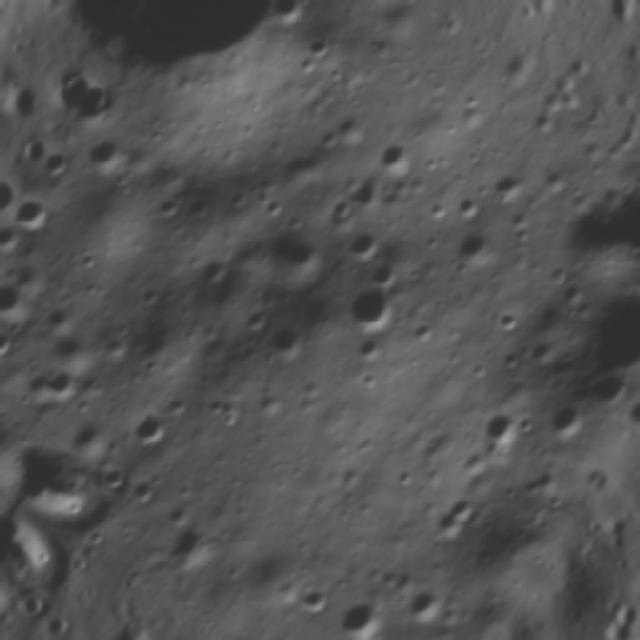crater: (112, 0, 306, 111), (551, 130, 640, 327), (0, 430, 105, 532), (581, 270, 640, 379), (340, 268, 409, 338), (5, 178, 64, 240), (576, 357, 635, 415), (333, 589, 398, 640), (162, 520, 215, 578), (264, 315, 319, 370), (428, 488, 482, 544), (86, 124, 136, 176), (74, 76, 123, 129), (452, 223, 502, 274), (342, 219, 392, 270), (484, 162, 536, 210), (373, 136, 422, 182), (124, 408, 173, 454), (546, 395, 592, 443), (475, 400, 520, 449), (350, 326, 395, 371), (406, 580, 448, 623), (38, 144, 79, 188), (38, 361, 82, 402), (486, 298, 528, 340), (450, 189, 492, 228), (94, 456, 134, 496), (127, 471, 167, 511), (366, 252, 405, 293), (268, 0, 317, 32), (348, 173, 388, 212), (0, 275, 32, 322), (325, 191, 361, 229), (307, 26, 344, 62), (408, 314, 443, 351), (198, 246, 233, 283), (0, 221, 29, 264), (161, 494, 196, 529), (150, 188, 184, 222), (620, 379, 640, 430), (294, 49, 324, 80), (0, 321, 17, 367), (338, 0, 385, 2)
